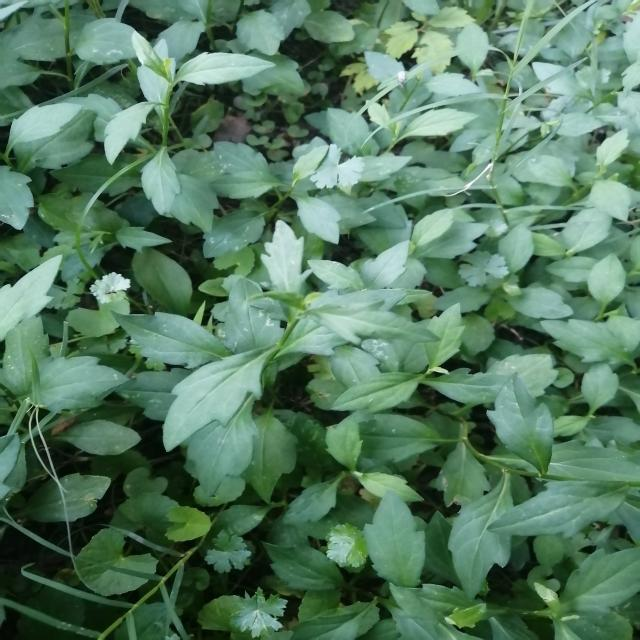Indian aster: (136, 245, 528, 400), (53, 27, 285, 228), (415, 392, 625, 583)
